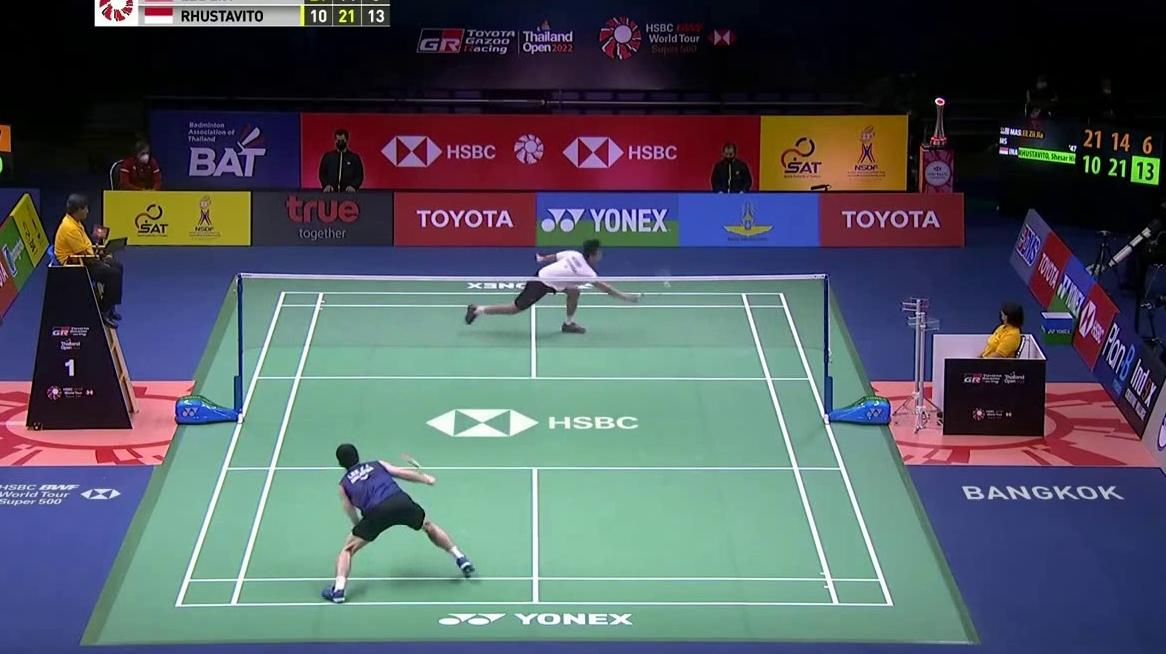racket: (633, 264, 672, 301), (398, 450, 438, 484)
shuttle: (663, 280, 673, 290)
